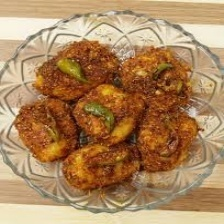sabzi: (13, 34, 200, 194)
